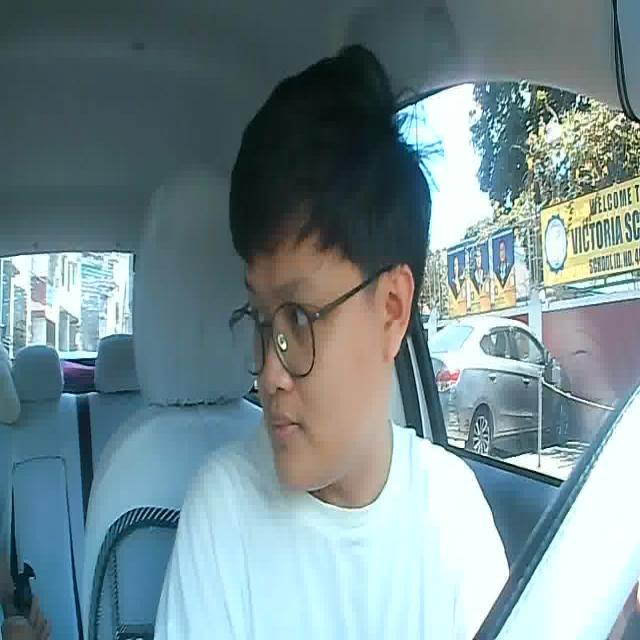Eye-Open: (248, 299, 272, 331), (287, 302, 311, 334)
Inattentive: (228, 44, 431, 494)
Normal: (267, 407, 300, 444)
